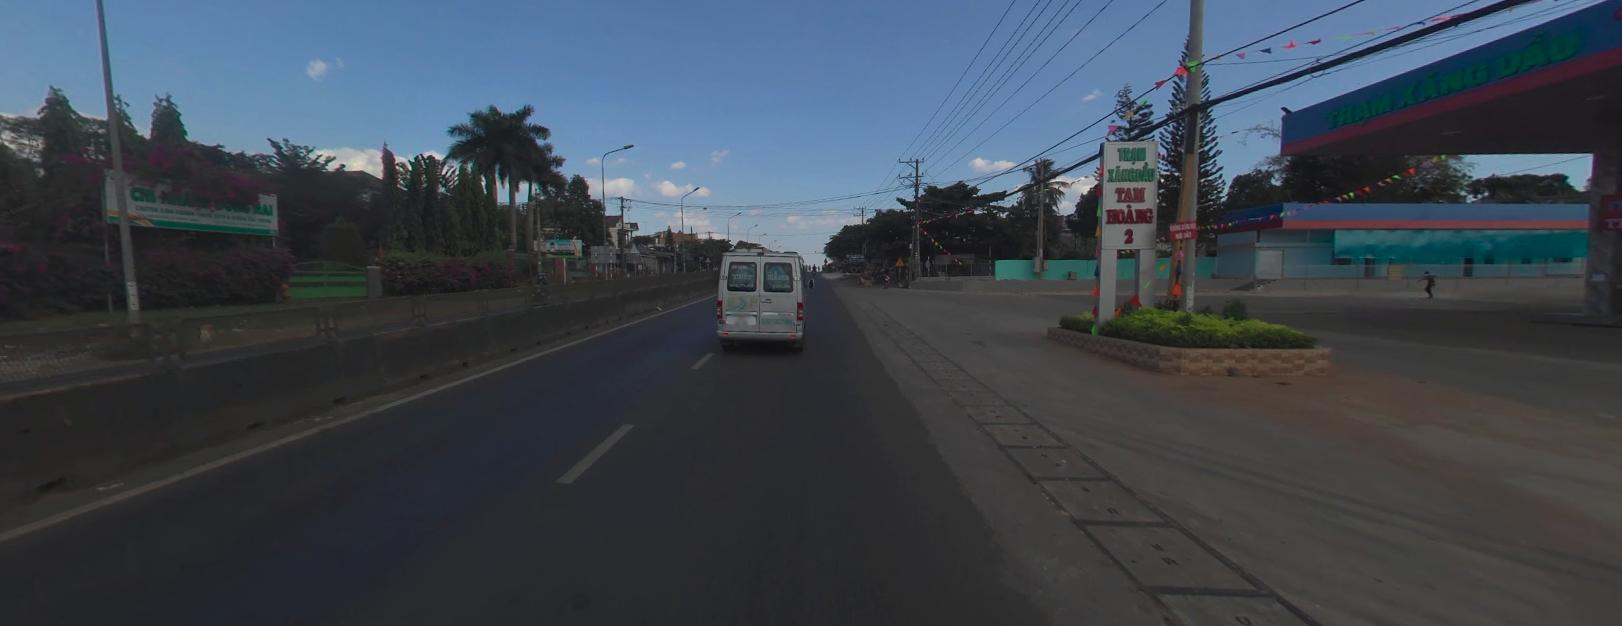Nguy hiem: (894, 256, 904, 265)
